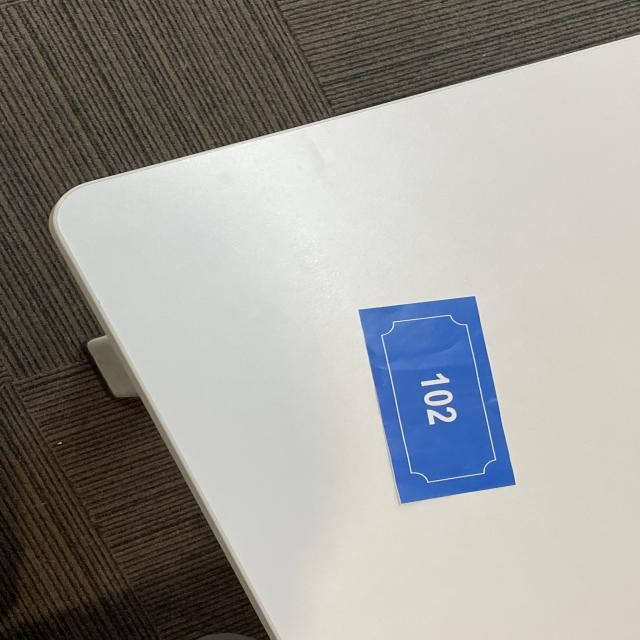Card: (333, 258, 535, 535)
